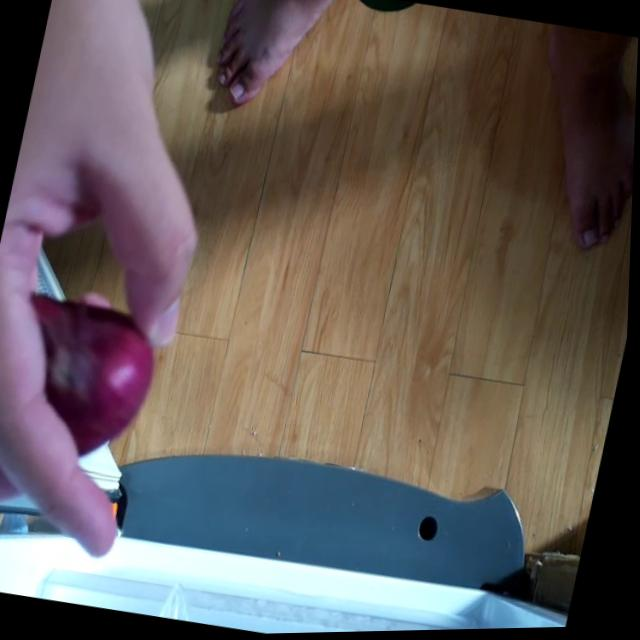onion: (3, 281, 168, 465)
